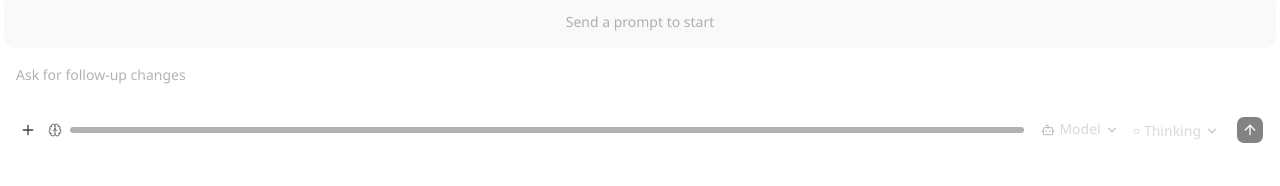
Test case: ChatStream › a failed resume aborts the send
The image size is (1280, 186).
In the text box: (640, 85) [16, 64, 1264, 106], type "hi"
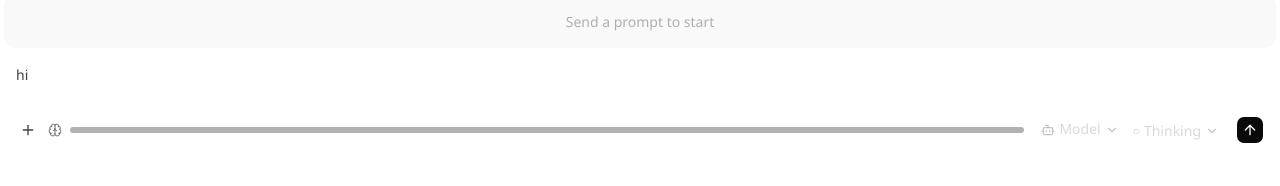
Click the button named "Send": (1250, 130) [1236, 116, 1264, 144]
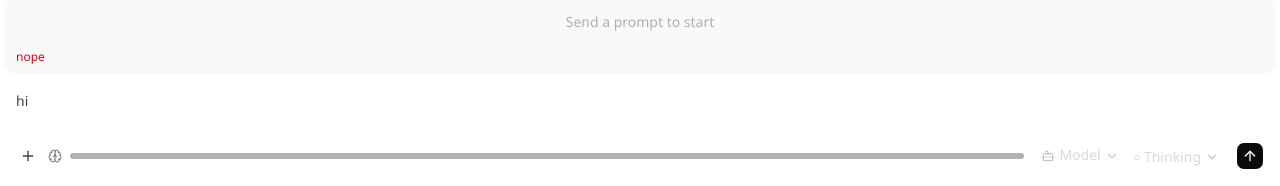
Expected: the text "nope" is shown, [16, 48, 45, 65]
